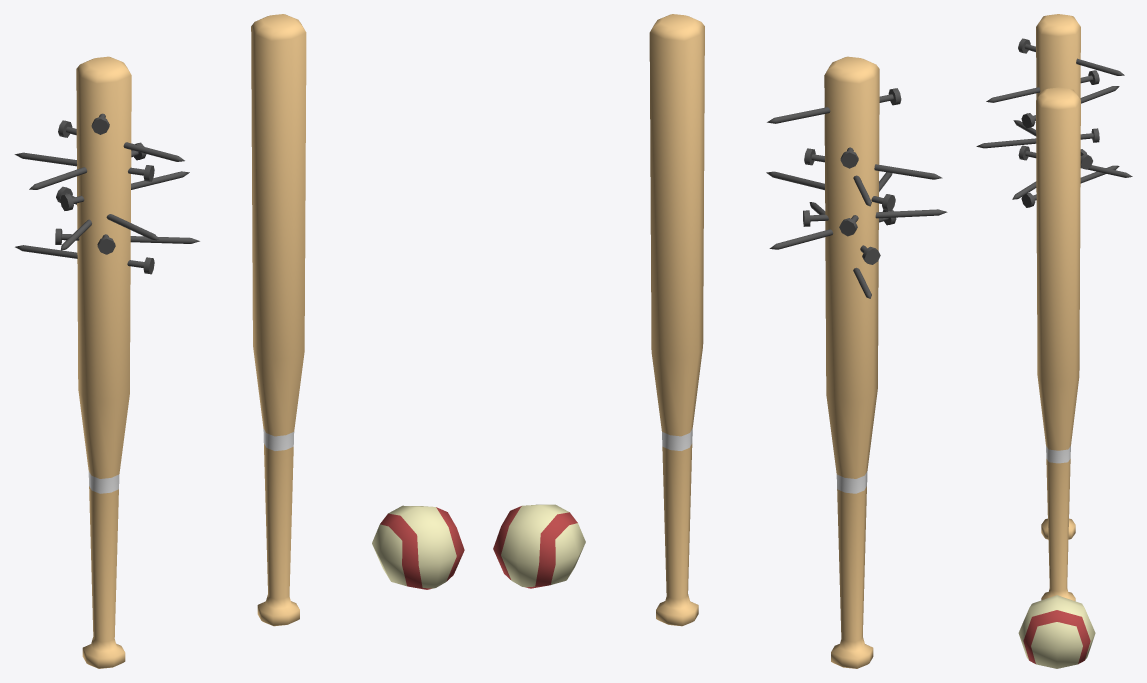
The model's file is BaseballBats.fbx.
The picture shows the model from 3 angles, left to right: view 1: azimuth 30°, elevation 25°; view 2: azimuth 150°, elevation 25°; view 3: azimuth 270°, elevation 25°; orthographic projection. The views are drawn at different scales.
Parts seen in each view (by area): view 1: NailedBaseballBat, BaseballBat, Baseball; view 2: NailedBaseballBat, BaseballBat, Baseball; view 3: BaseballBat, NailedBaseballBat, Baseball.
Boxes of the visible parts, bbox=[...] form: NailedBaseballBat: bbox=[14, 56, 199, 668]; BaseballBat: bbox=[251, 14, 306, 626]; Baseball: bbox=[372, 505, 464, 589]; NailedBaseballBat: bbox=[766, 56, 947, 668]; BaseballBat: bbox=[649, 14, 704, 626]; Baseball: bbox=[493, 504, 585, 588]; BaseballBat: bbox=[1036, 87, 1080, 601]; NailedBaseballBat: bbox=[976, 14, 1132, 539]; Baseball: bbox=[1018, 595, 1095, 668].
Size of the model in its own units: 0.8662 by 1.14 by 0.3137.
